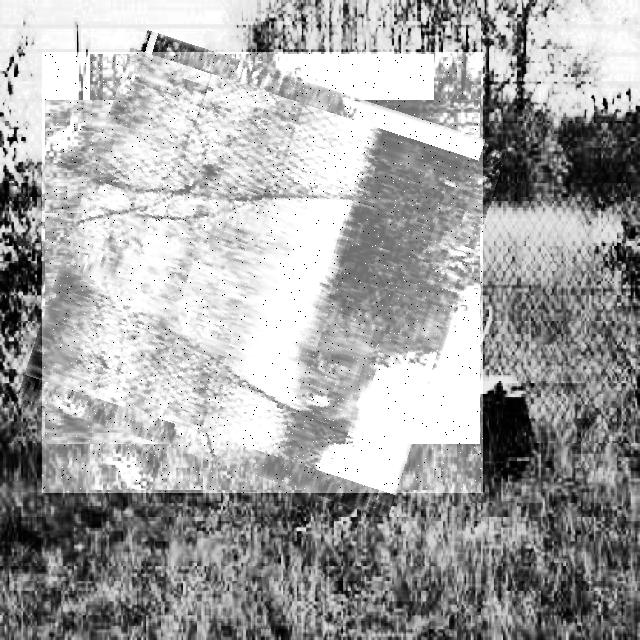anomaly-fence: (42, 52, 483, 493)
